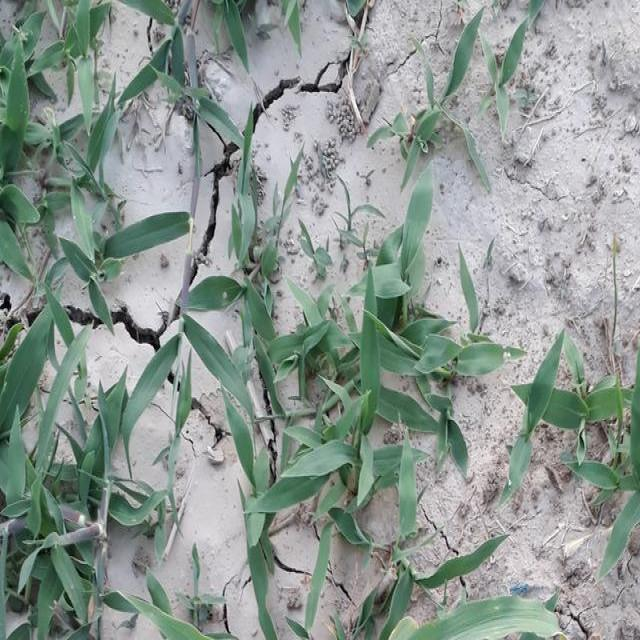weed: (218, 184, 490, 640), (0, 0, 191, 620)
